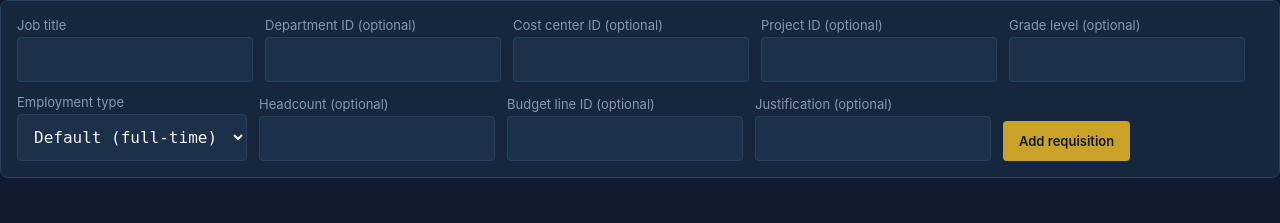
Test case: CreateRequisitionForm › falls back to a generic error message when the action fails without one
Type "Senior Backend Engineer" into the field labelled "Job title" at (135, 60), box [17,37,253,82]
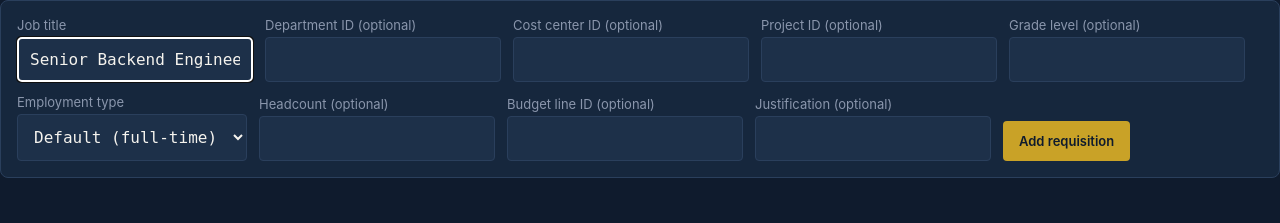
Click the button "Add requisition" at (1067, 141), box [1003,121,1130,161]
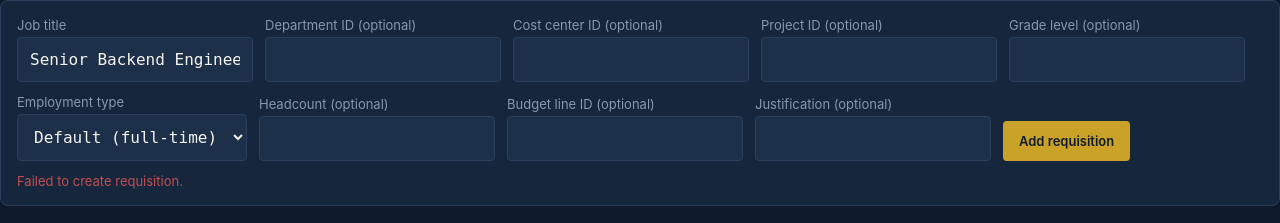
Now the text "Failed to create requisition." is shown, box [17,173,183,189]
